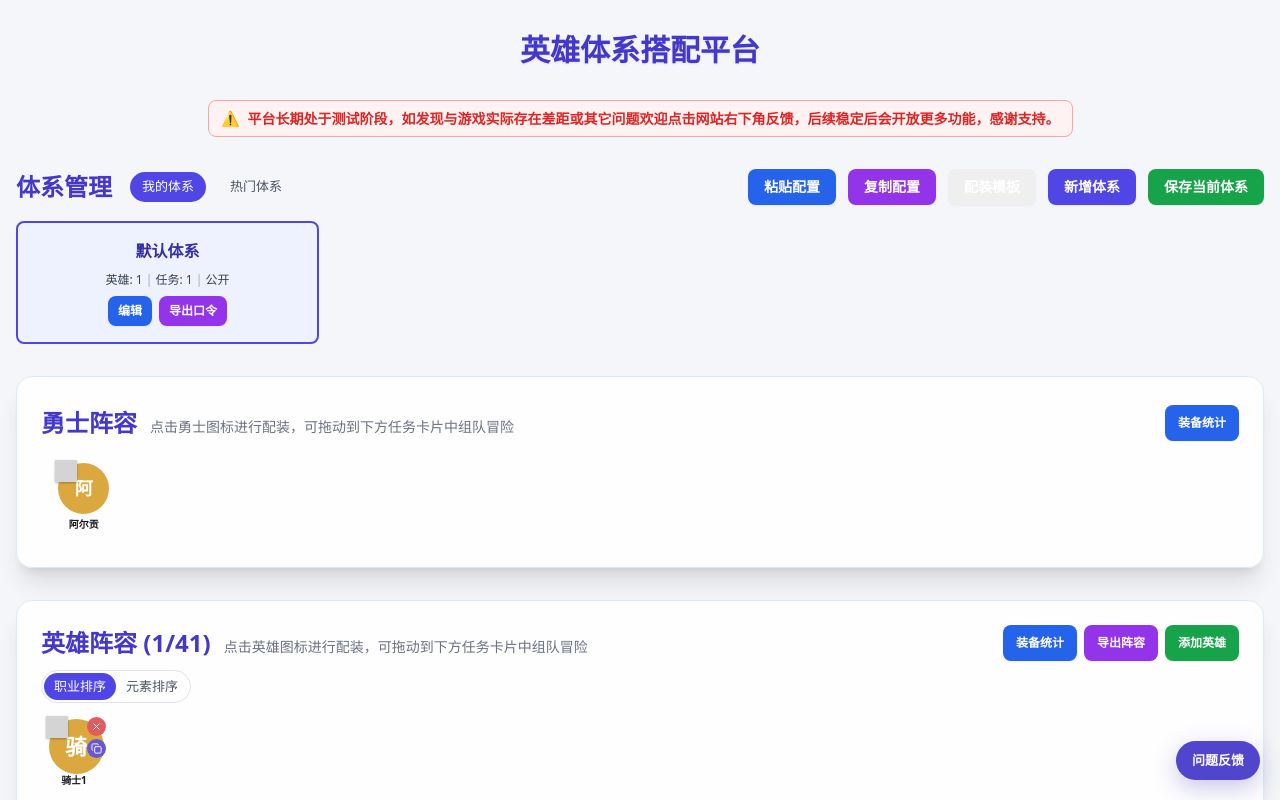
Test: creates a system through the same two-tab dialog flow as online
Expected: the text "默认体系" is shown, [136,240,200,262]
Click the button "新增体系": x=1092, y=186 [1048,168,1136,204]
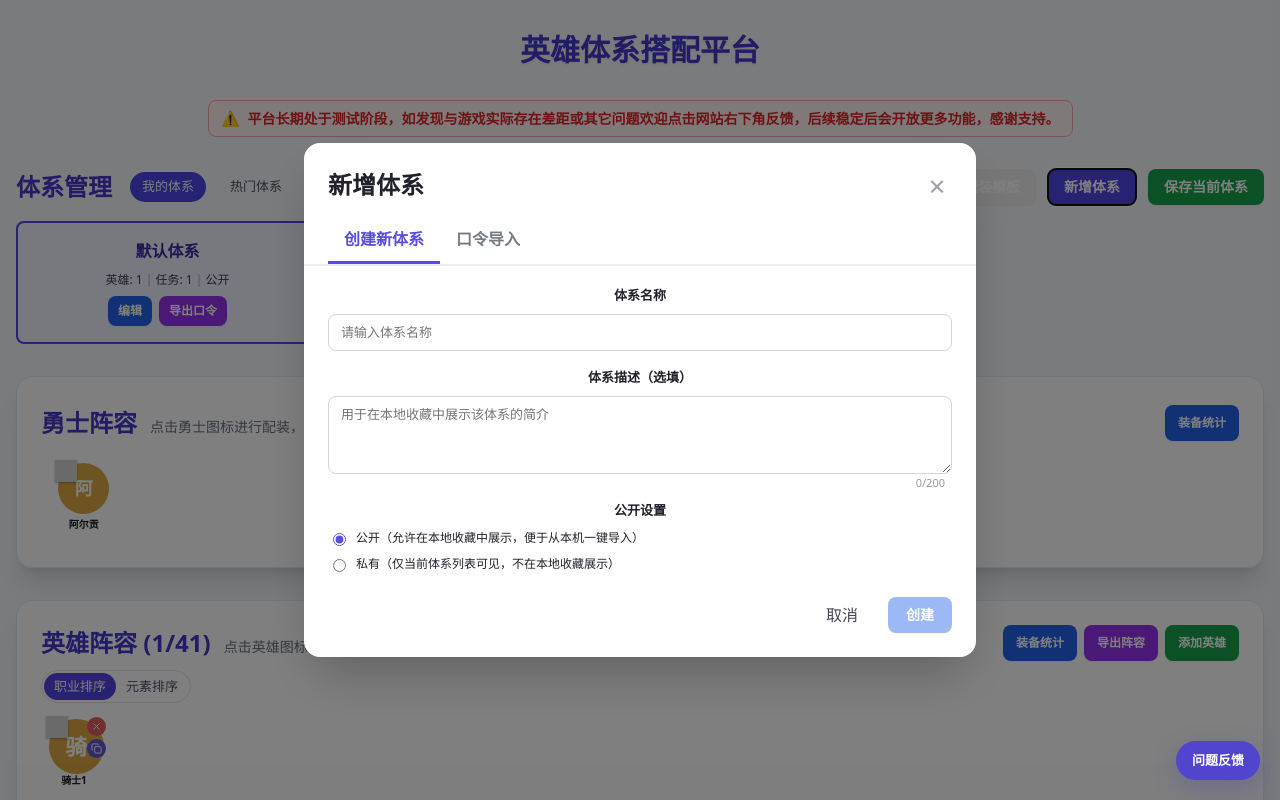
Expected: the dialog "新增体系" is shown, [304,143,976,657]
Expected: the button "口令导入" is shown, [440,215,536,264]
In the field named "新体系名称": x=640, y=332 [328,314,952,351], type "线上流程体系"
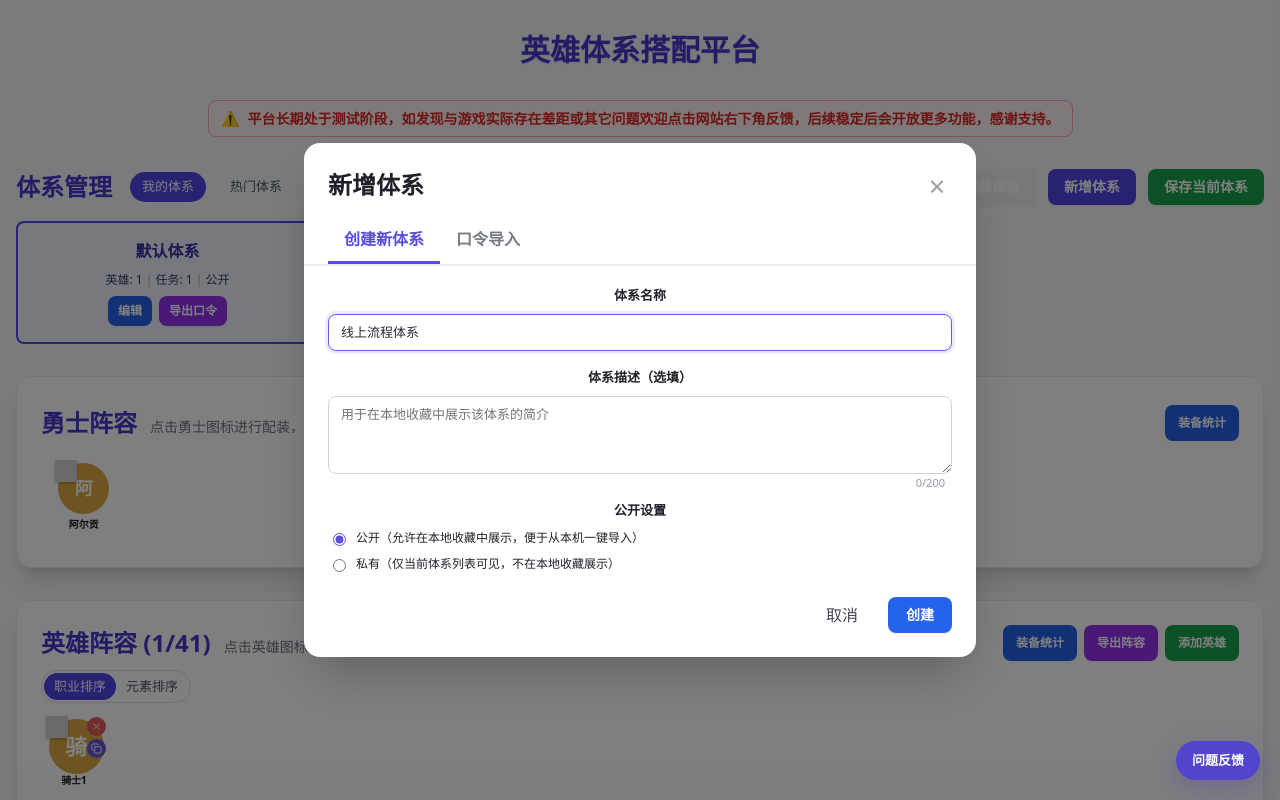
In the text box named "新体系描述": x=640, y=434 [328,396,952,474], type "由创建弹窗生成"
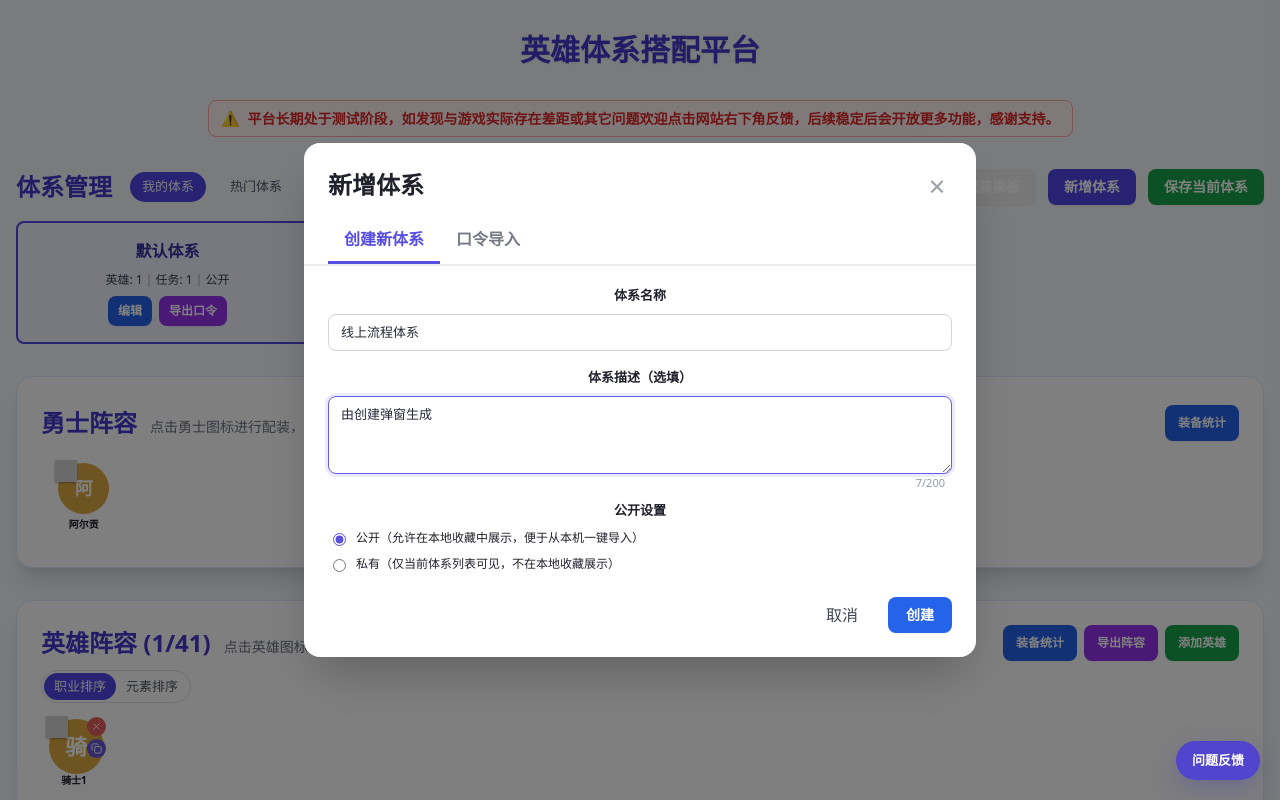
Click the radio button labelled "私有（仅当前体系列表可见，不在本地收藏展示）": x=340, y=566 [333,559,346,572]
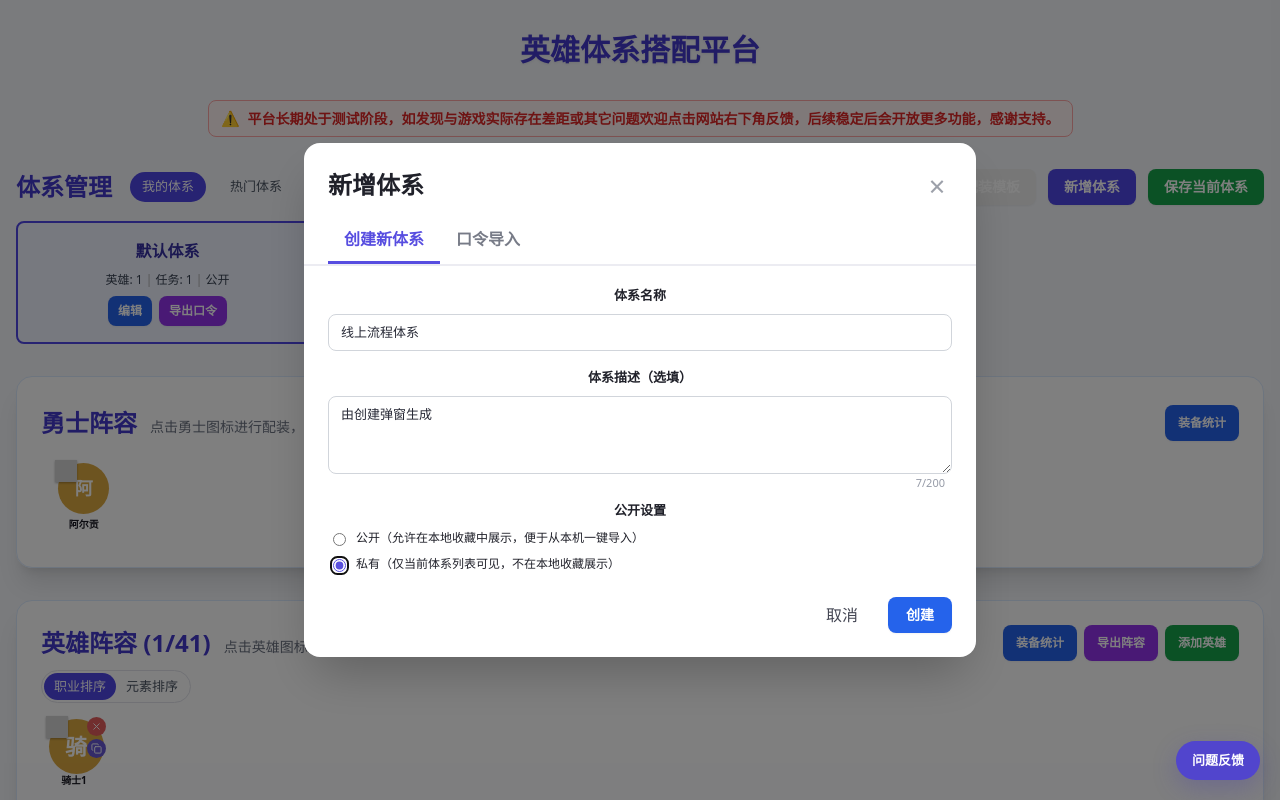
Click the button "创建": x=920, y=615 [888,597,952,633]
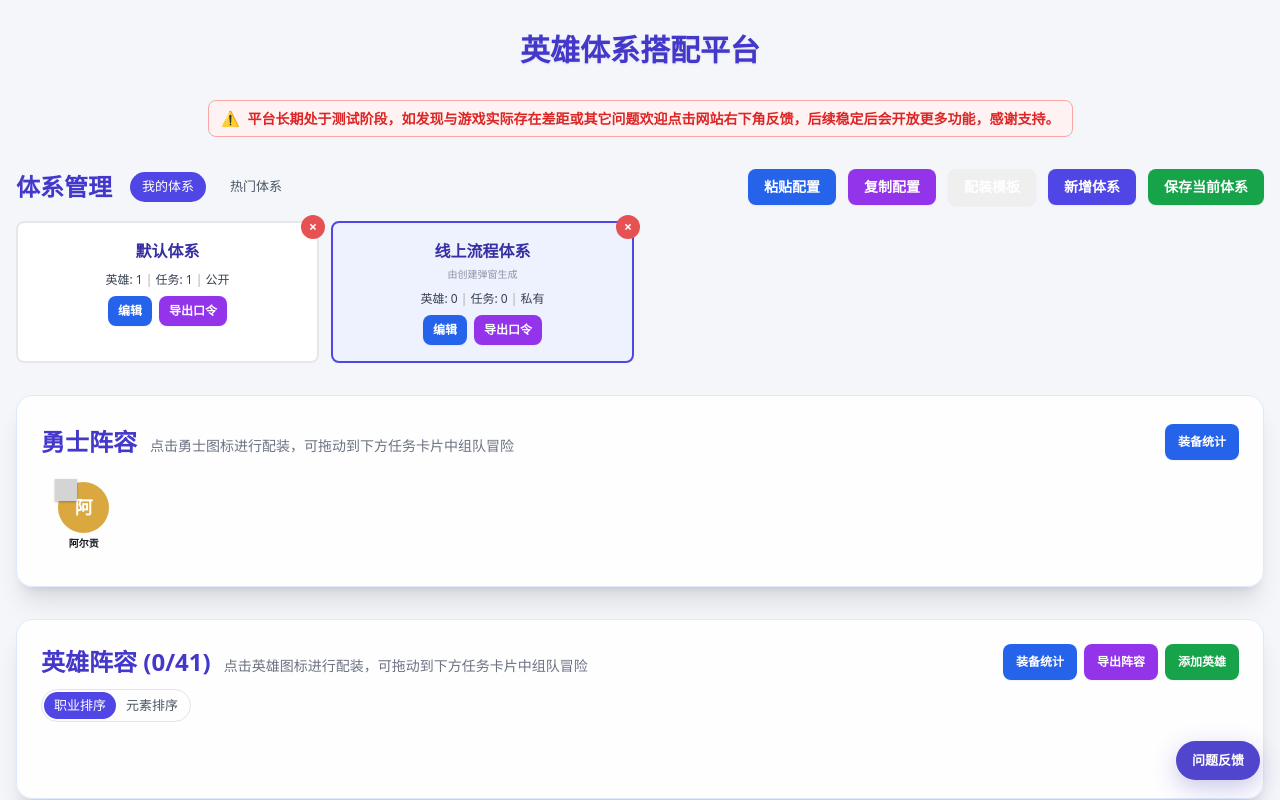
Expected: the text "线上流程体系" is shown, [434,240,530,262]
Expected: the element showing "英雄: 0 | 任务: 0 | 私有" is shown, [420,290,545,306]
